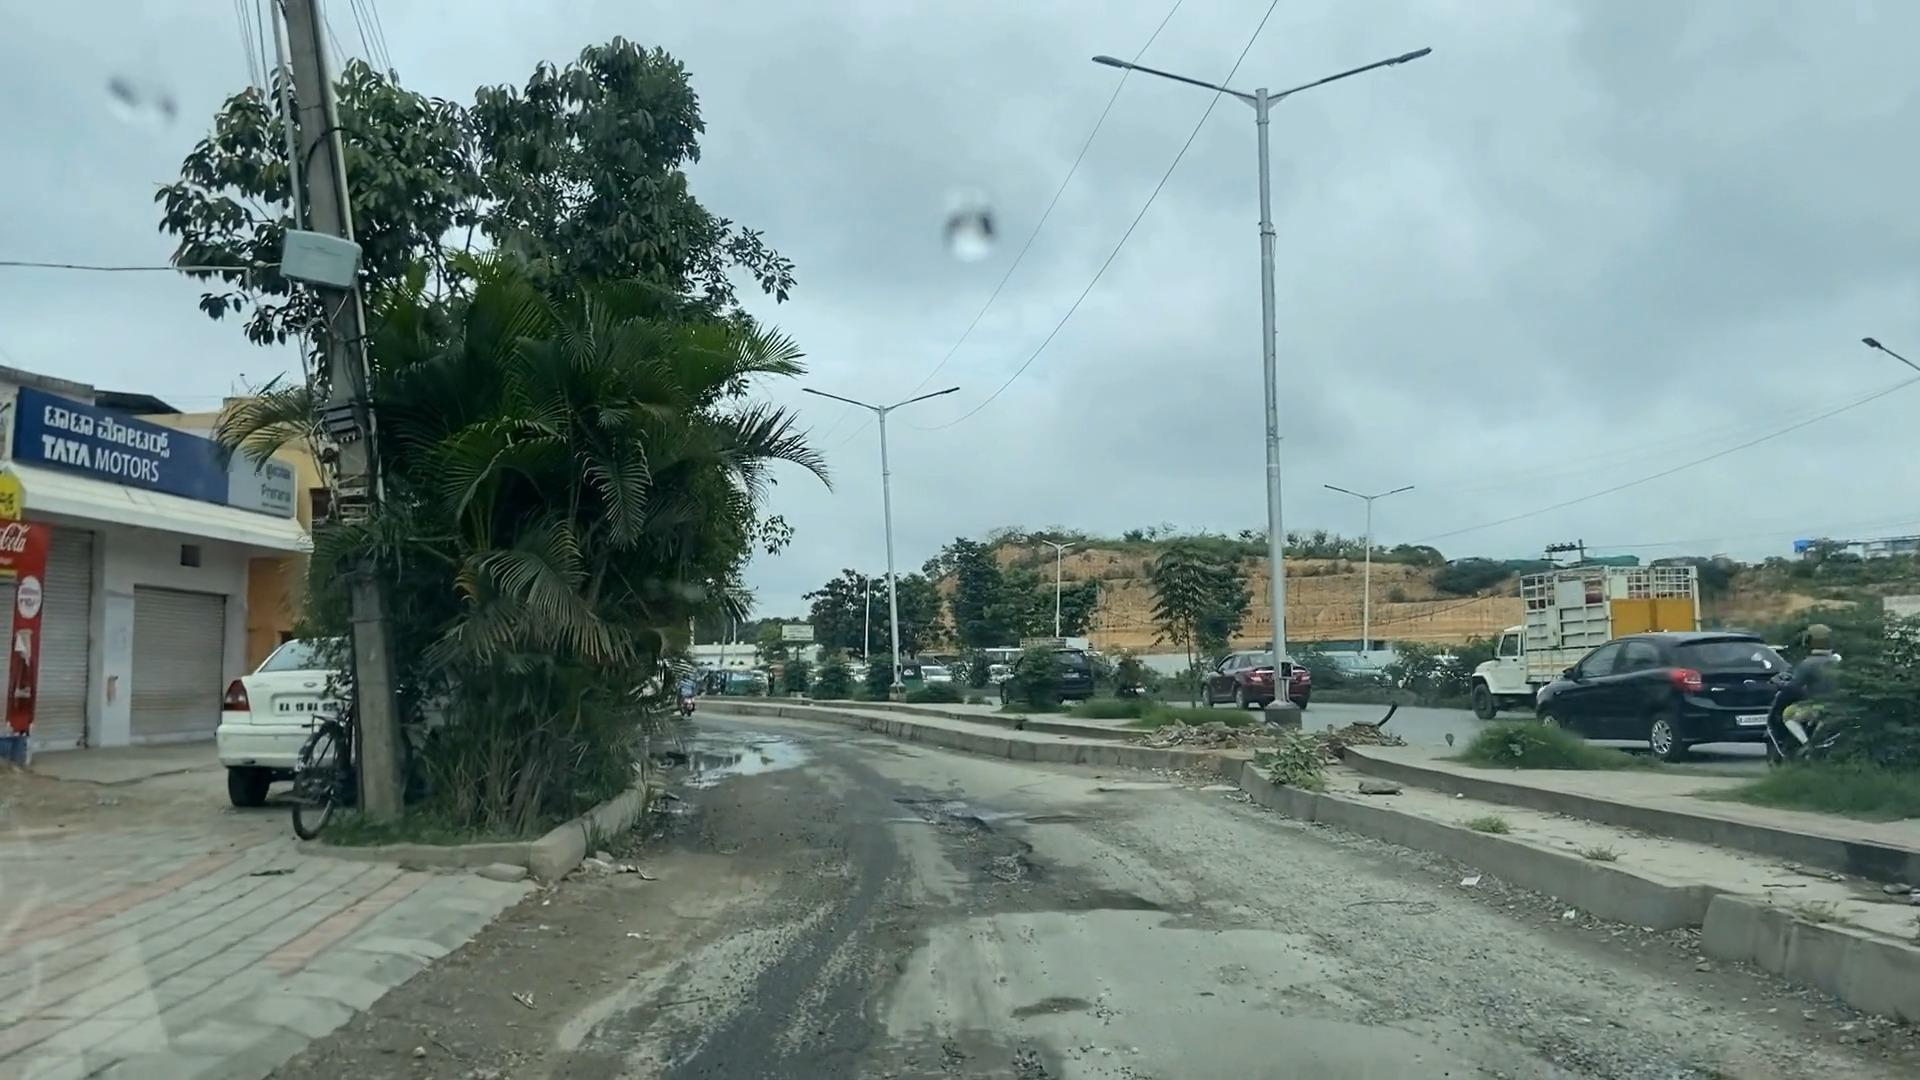RoadDamages: (907, 783, 1193, 945), (816, 977, 1117, 1080)
